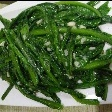youmaicai: (0, 0, 112, 105)
